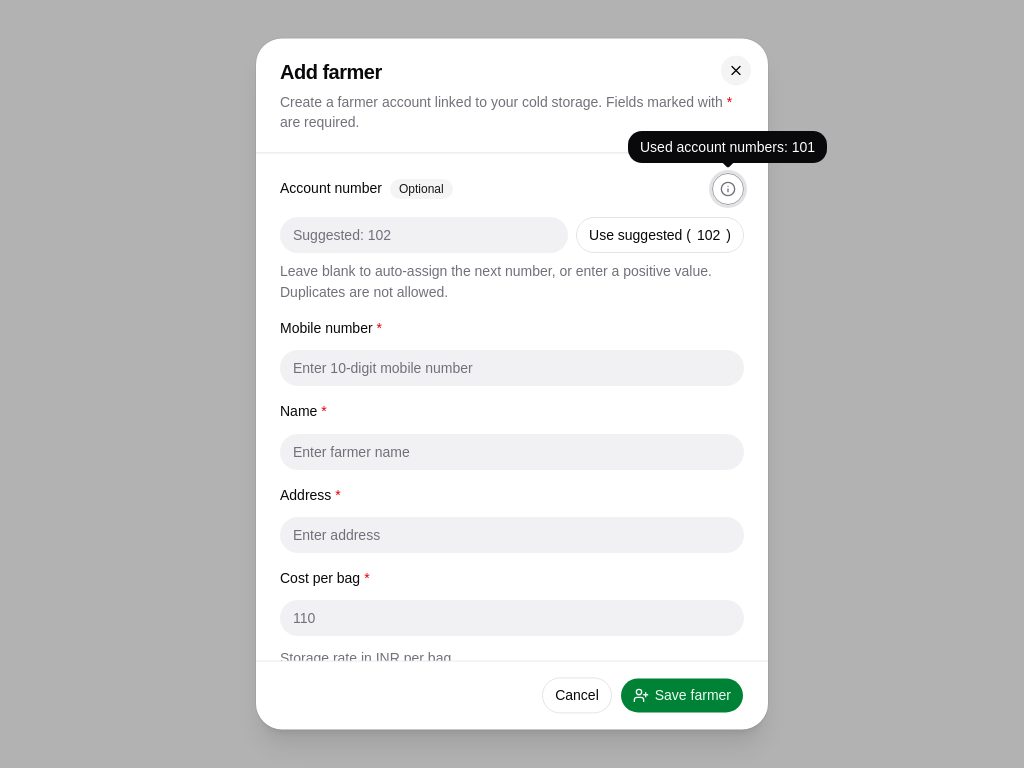
Test case: AddFarmerDialog › fills the suggested account number when Use suggested is clicked
Click the button "Use suggested ( 102 )" at (660, 235), box 576,217 -> 744,253
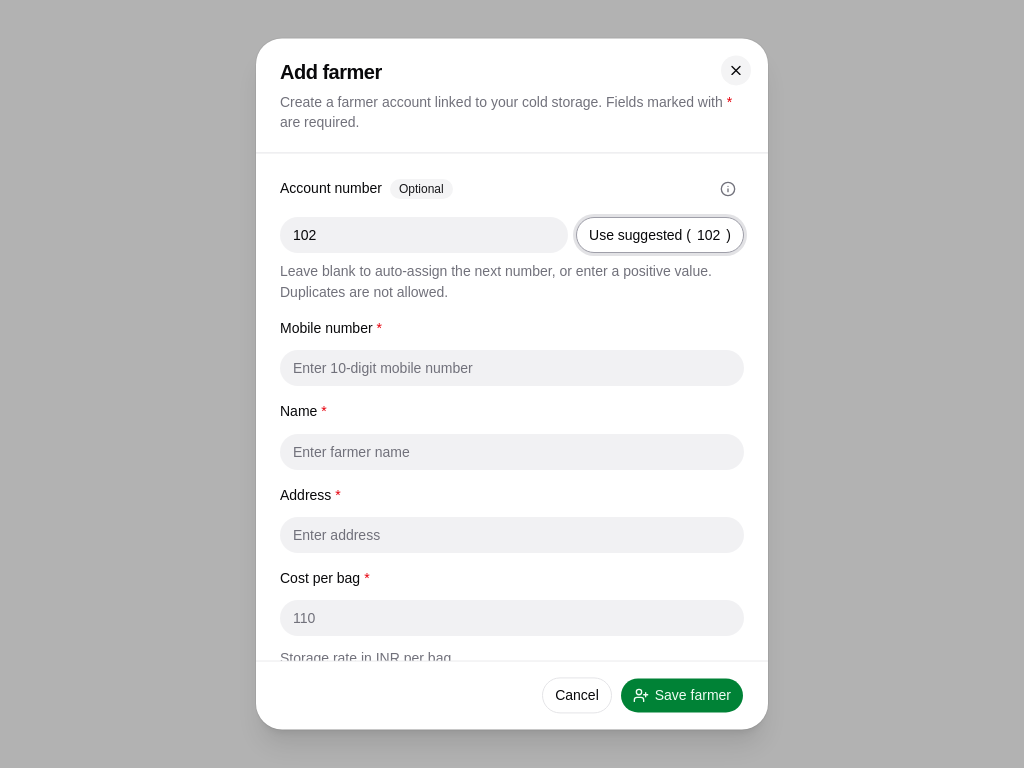
expect the number field with id "accountNumber" holds "102": met, box 280,217 -> 568,253
